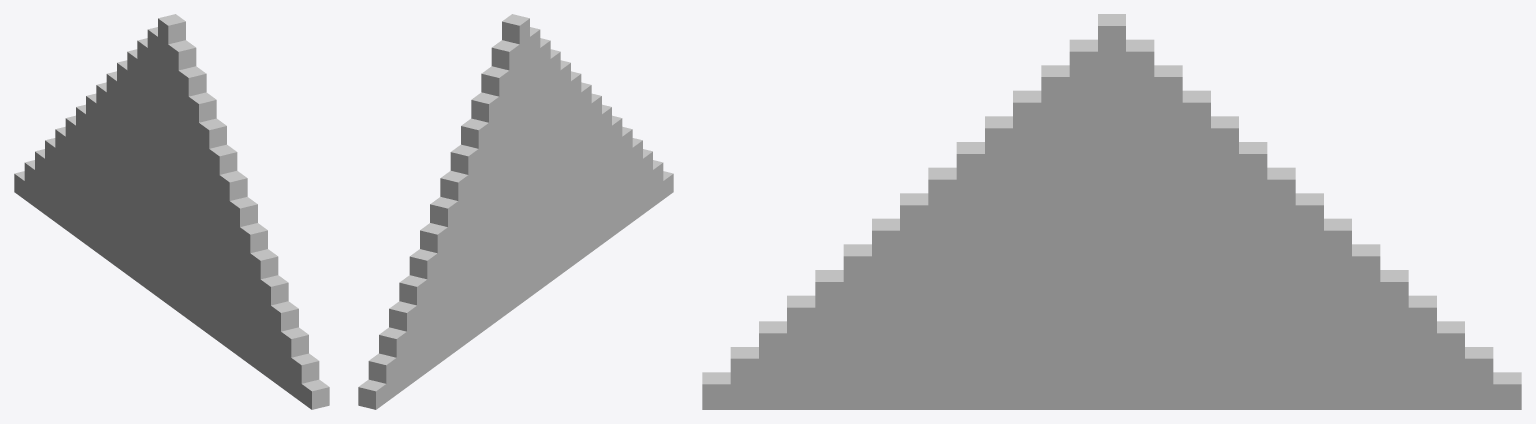
Rendered from ConstructionMaterials-13.obj.
3 renders of one model, left to right at view 1: azimuth 30°, elevation 25°; view 2: azimuth 150°, elevation 25°; view 3: azimuth 270°, elevation 25°, orthographic. The views are drawn at different scales.
Size of the model in its own units: 0.1 by 1.5 by 2.9.
Materials: 1 (1 with a texture image).
